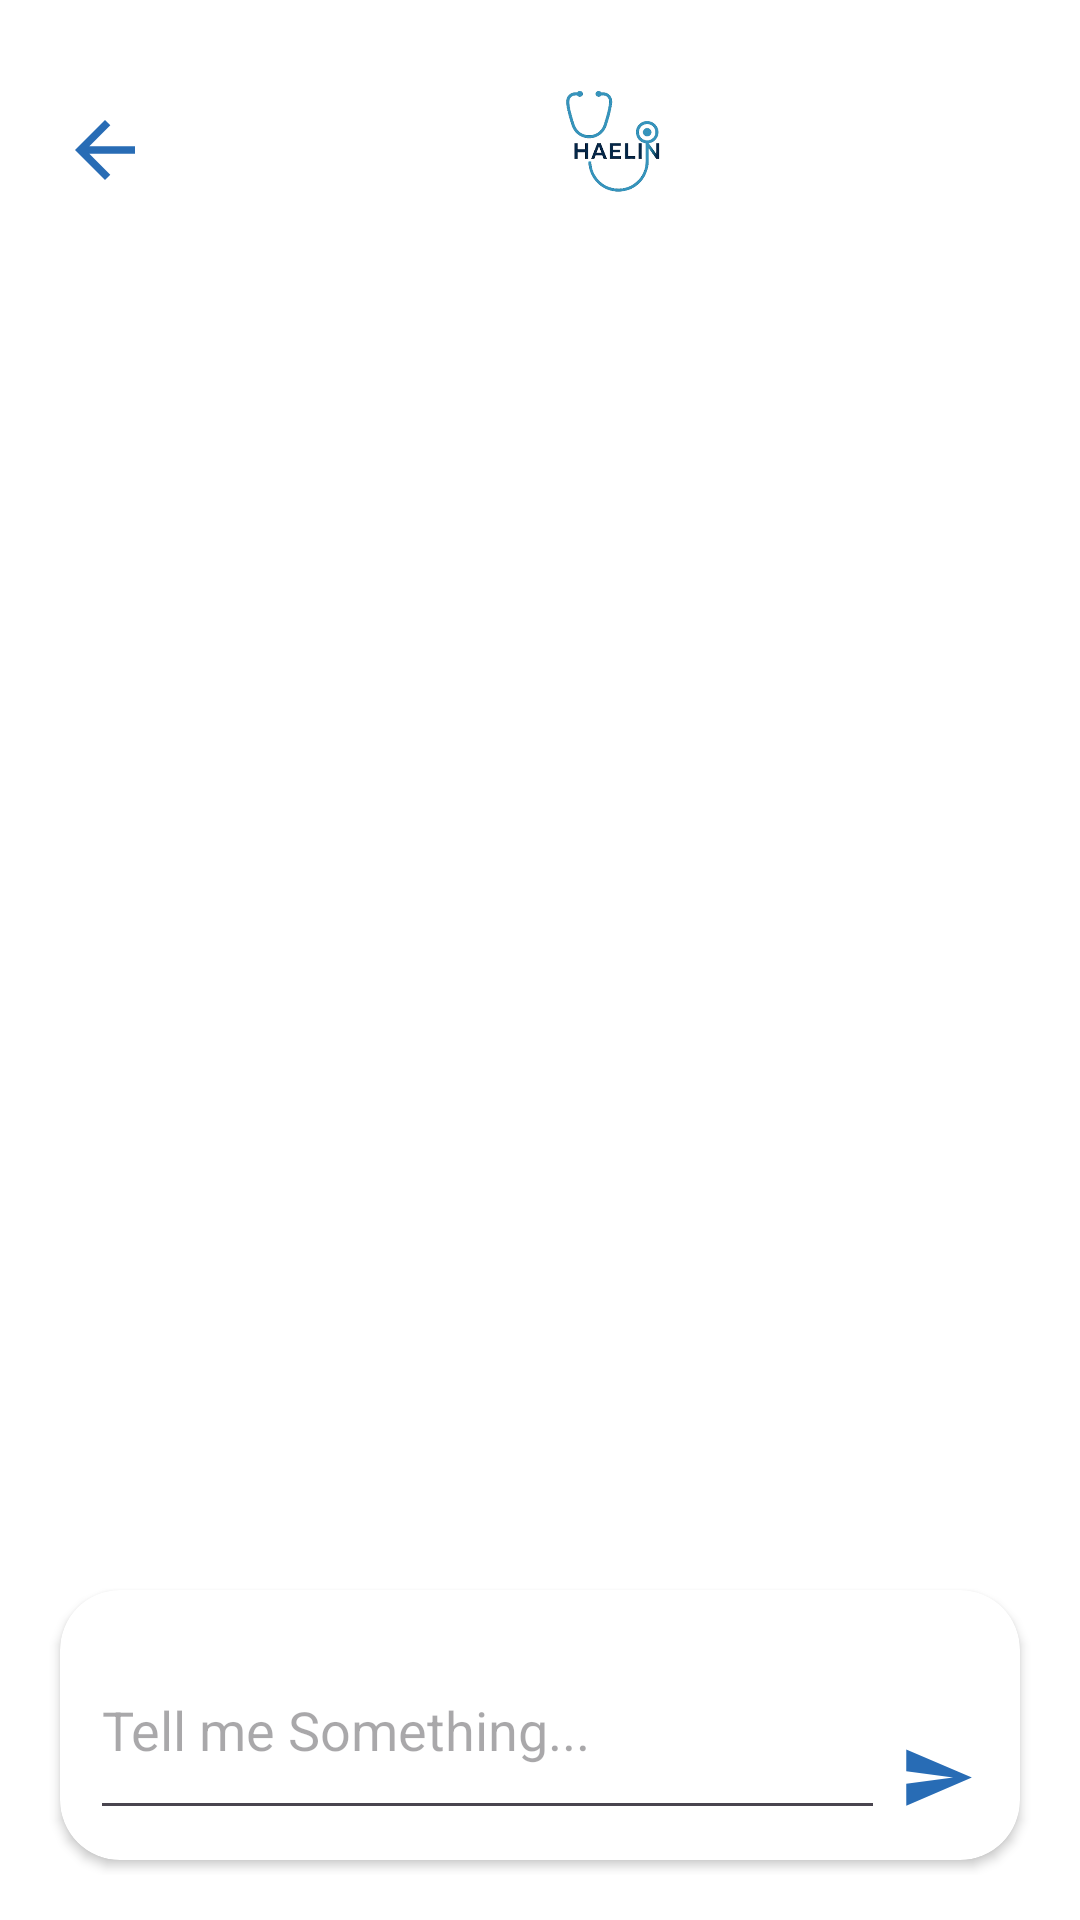

Icons on this 1080px x 1920px Android screen, each with the point to tap as (x,y):
back: (105,150)
send: (939,1777)
